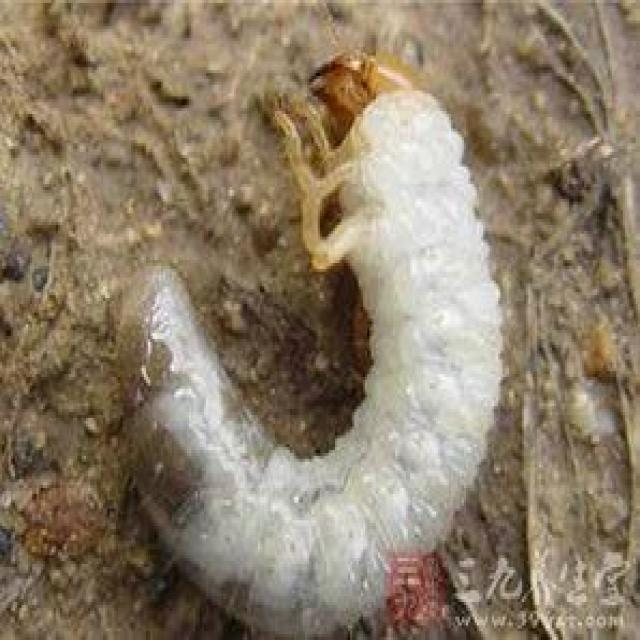Grub-Adult-: (56, 27, 517, 625)
